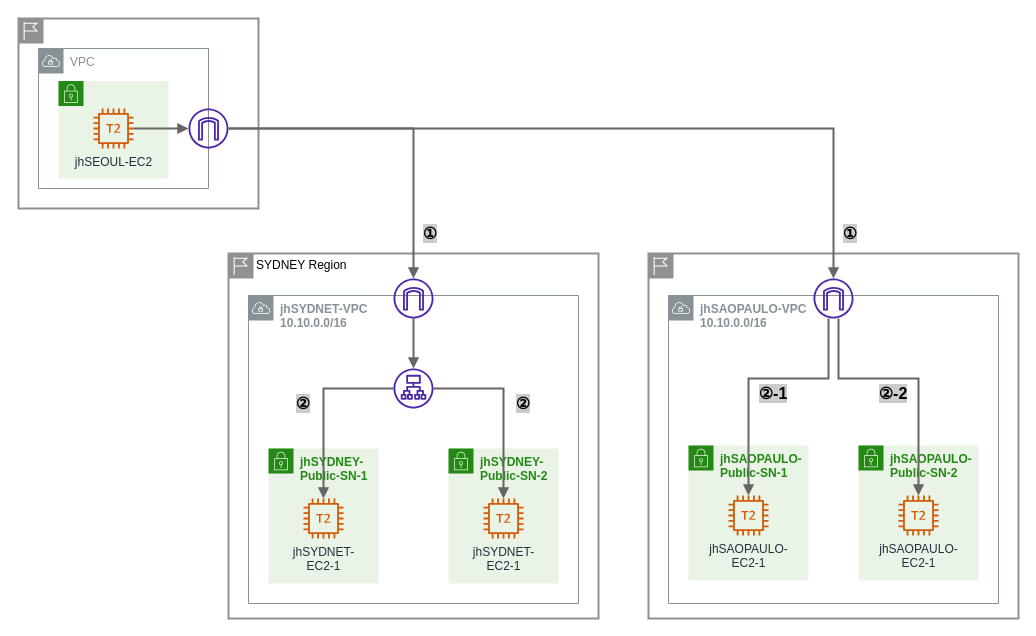
The diagram is 1036 pixels wide and 636 high, and some of its shapes have lost their labels. Here are the shapes that lost their labels. From the top down, the box of each, then its label:
(58, 80, 168, 178): public subnet
(17, 17, 259, 209): SEOUL Region
(188, 108, 228, 148): IGW
(393, 278, 433, 318): jhSYDNET-IGW
(813, 278, 853, 318): jhSAOPAULO-IGW
(393, 368, 433, 408): jhSYDNET-ALB
(647, 252, 1019, 619): SAOPAULO Region
